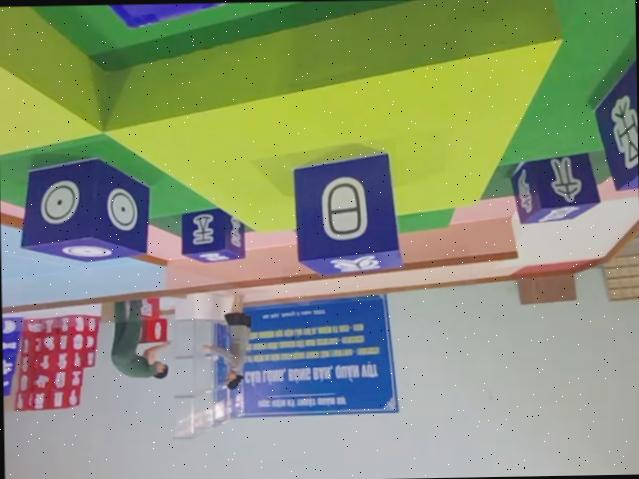R2 Fake Blue: (292, 148, 404, 273), (514, 150, 604, 224)
R2 Real Blue: (18, 153, 150, 260), (594, 41, 639, 188), (180, 204, 246, 260)
